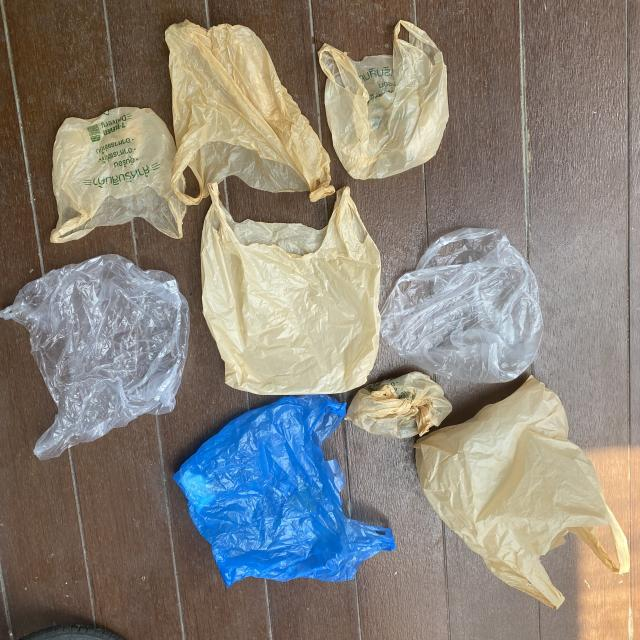Single-layer Plastic: (415, 376, 630, 609), (174, 395, 395, 586), (0, 255, 189, 460), (201, 184, 381, 395), (165, 20, 334, 205), (381, 229, 542, 382), (319, 20, 449, 180), (50, 106, 185, 242), (346, 371, 452, 438)
